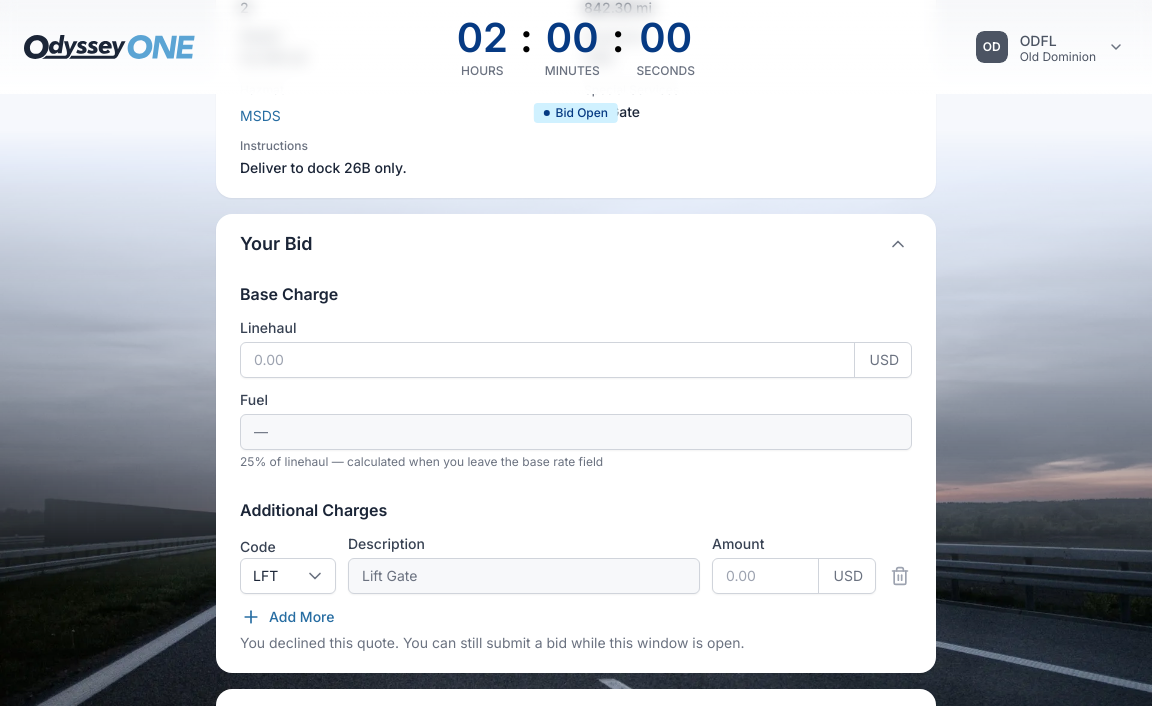
Test case: CarrierBid — open quote › submitting a bid from the declined state re-enables Decline and relabels the primary action back to "Update Bid"
(page scrolled)
Type "1000" into the field labelled "Linehaul" at (548, 360), box [254, 350, 842, 370]
(page scrolled)
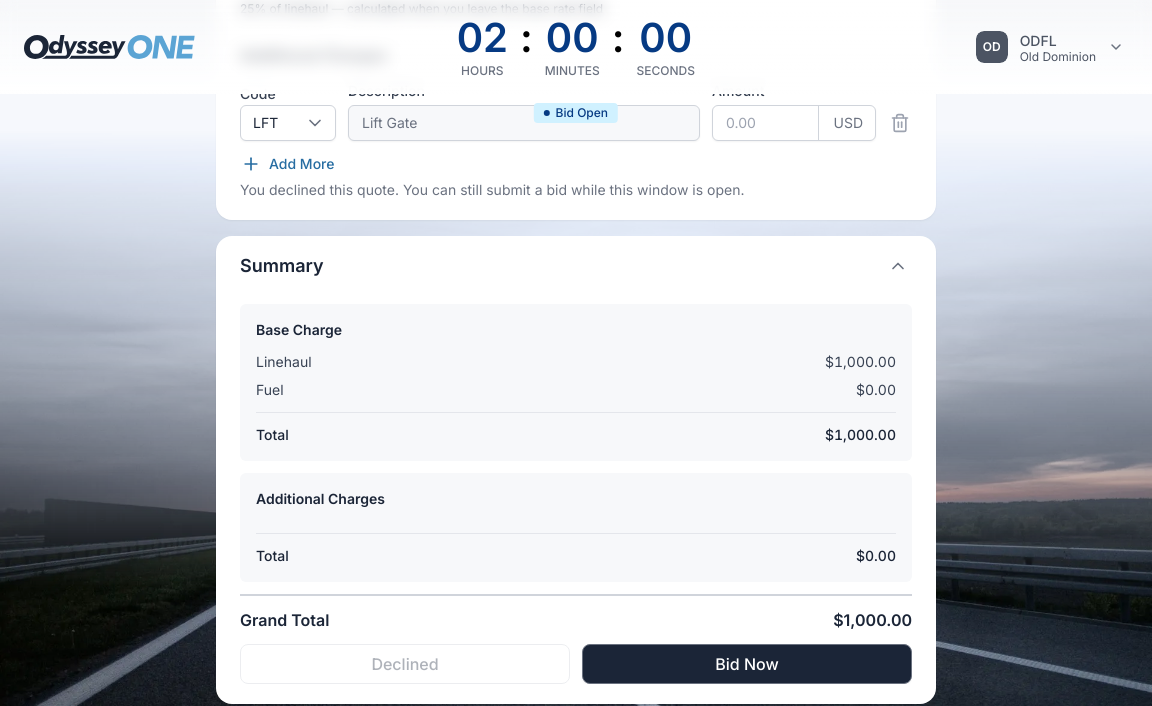
Click the button "Bid Now" at (747, 664), box [582, 644, 912, 684]
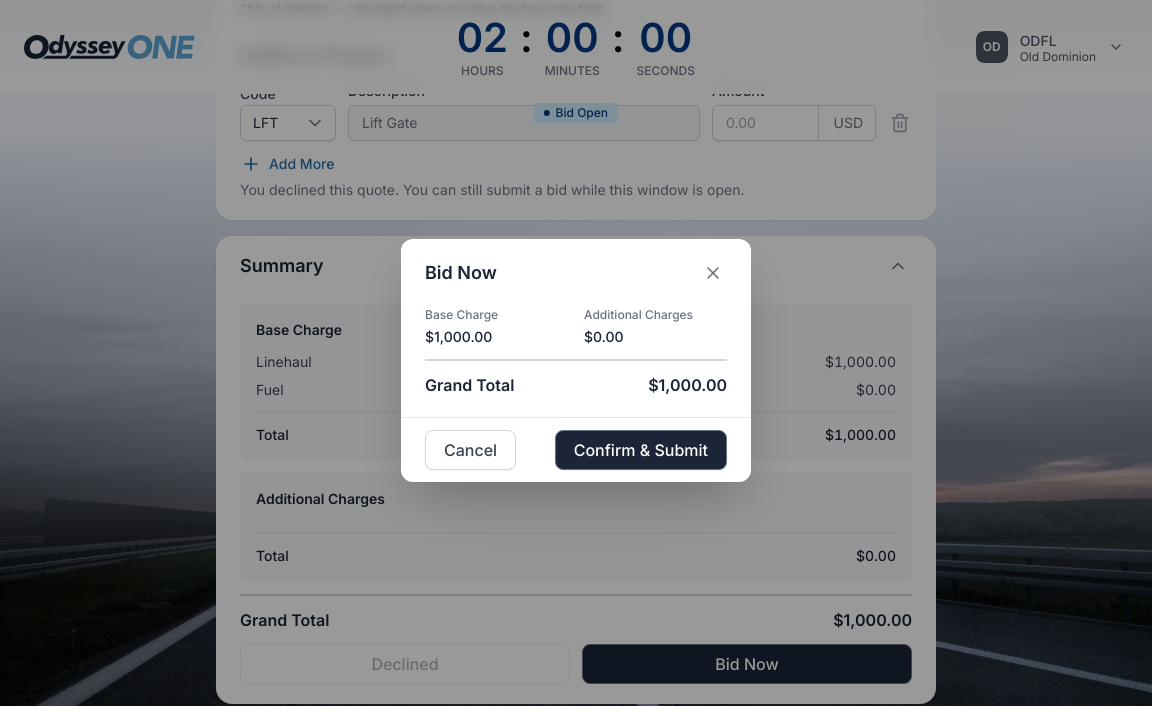
Click the button "Confirm & Submit" at (641, 450), box [555, 430, 727, 470]
(page scrolled)
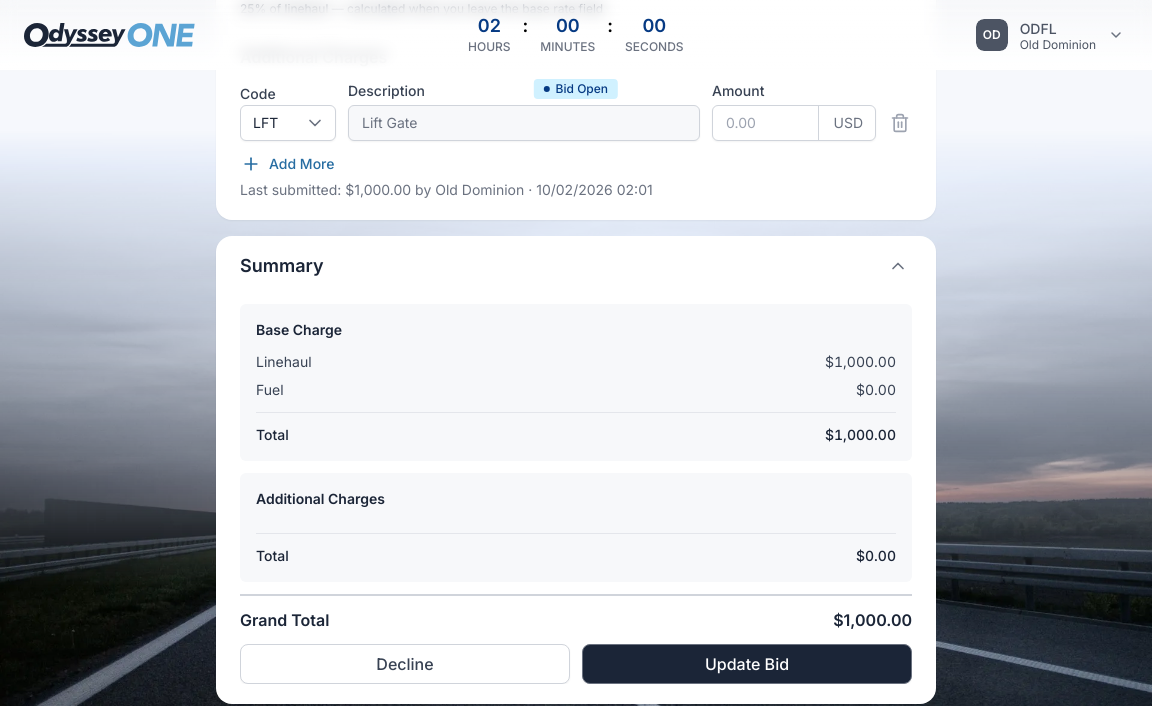
Check: the button "Decline" is enabled, box [240, 644, 570, 684]
Check: the text "declined" is gone
Check: the button "Update Bid" is shown, box [582, 644, 912, 684]
